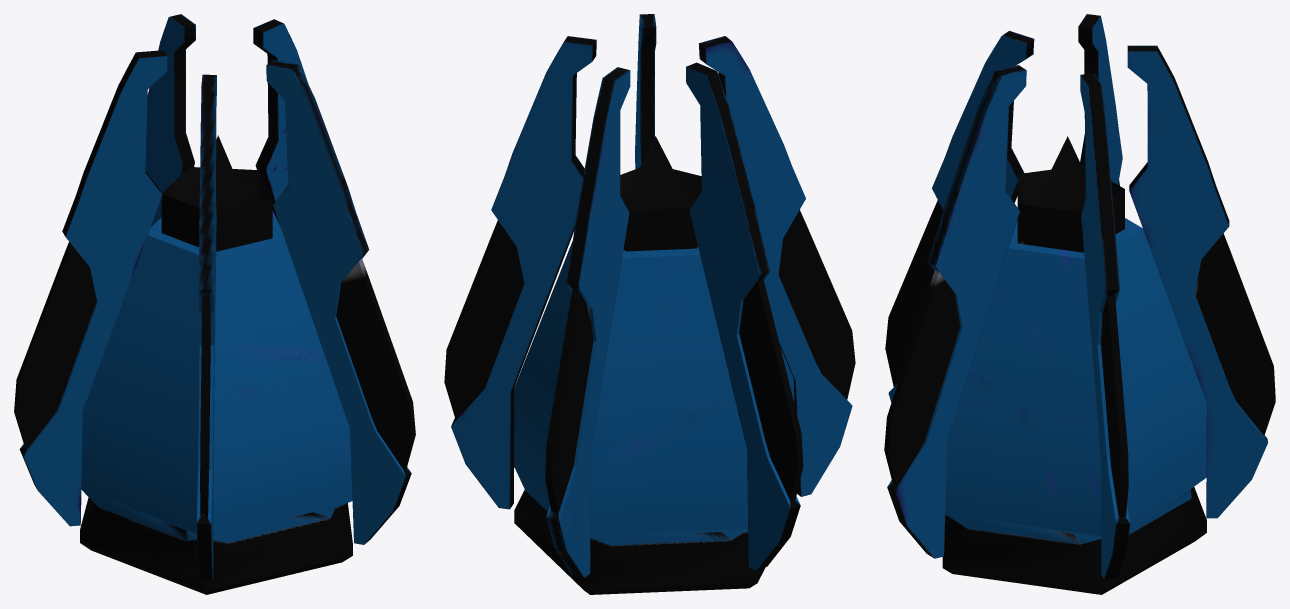
File: DropPod.fbx
3 renders of one model, left to right at view 1: azimuth 30°, elevation 25°; view 2: azimuth 150°, elevation 25°; view 3: azimuth 270°, elevation 25°, orthographic. The views are drawn at different scales.
Parts seen in each view (by area): view 1: MainPod, Support3, Support4, Support5, Support1, Support2; view 2: MainPod, Support2, Support3, Support5, Support1, Support4; view 3: MainPod, Support1, Support4, Support2, Support5, Support3.
Boxes of the visible parts, box(x1,y1,x2,y2) form: MainPod: box(80, 135, 352, 594); Support3: box(14, 50, 167, 526); Support4: box(266, 60, 415, 544); Support5: box(196, 74, 216, 581); Support1: box(145, 14, 195, 226); Support2: box(253, 19, 307, 224); MainPod: box(514, 136, 794, 594); Support2: box(444, 36, 596, 509); Support3: box(686, 62, 803, 570); Support5: box(698, 36, 855, 496); Support1: box(545, 67, 630, 577); Support4: box(635, 14, 656, 169); MainPod: box(942, 136, 1206, 594); Support1: box(1127, 45, 1275, 518); Support4: box(884, 65, 1026, 558); Support2: box(1080, 73, 1130, 579); Support5: box(885, 31, 1034, 402); Support3: box(1078, 14, 1122, 185).
Size of the model in its own units: 0.0449 by 0.0598 by 0.043.
Materials: 1 (1 with a texture image).
